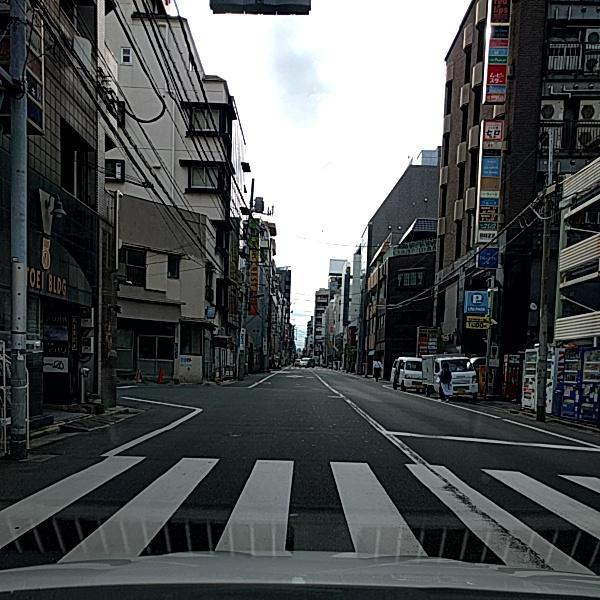D43: (401, 457, 575, 572)
